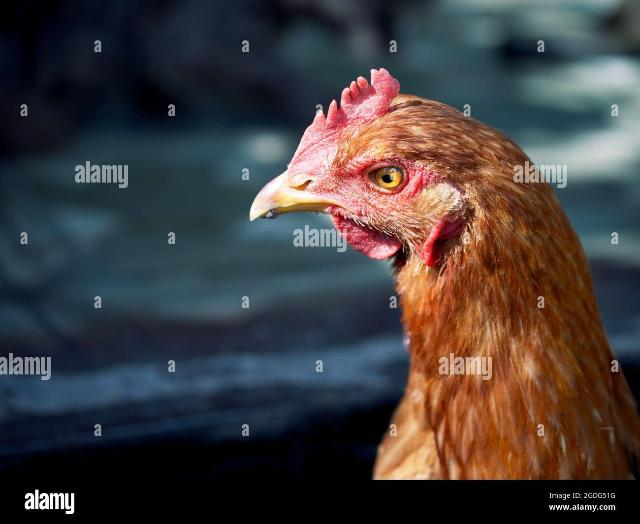Chicken: (248, 68, 640, 478)
